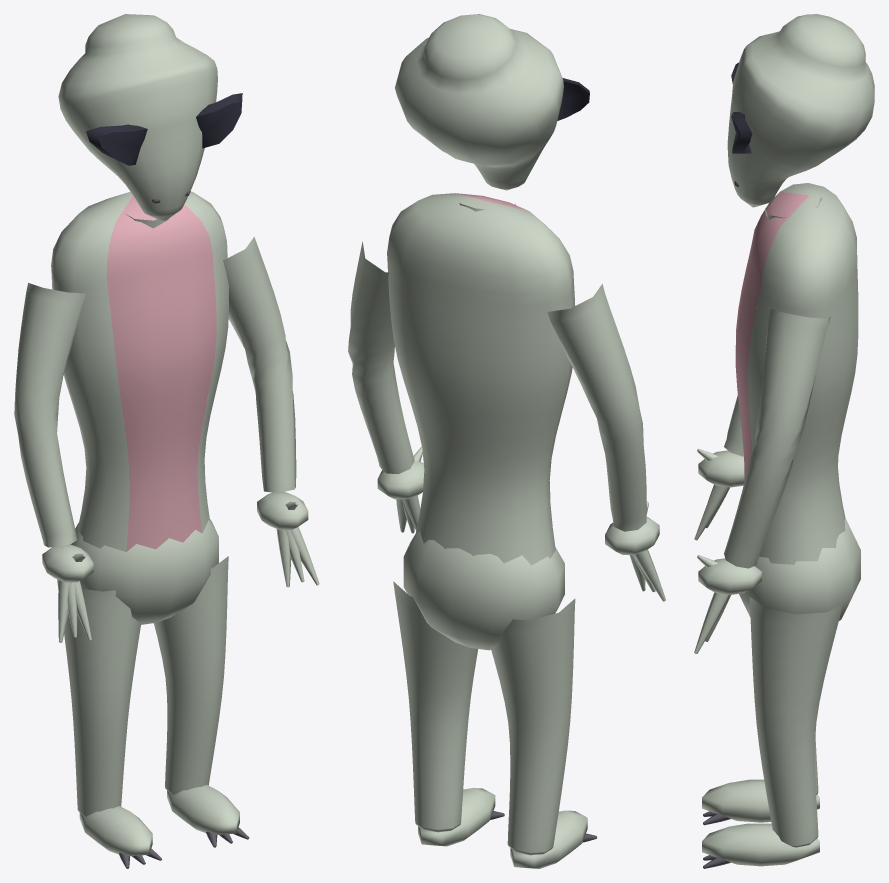
File: SlenderGreyXeno_Mutant.glb
3 renders of one model, left to right at view 1: azimuth 30°, elevation 25°; view 2: azimuth 150°, elevation 25°; view 3: azimuth 270°, elevation 25°, orthographic. The views are drawn at different scales.
Visible parts, largest first — view 1: slender-grey-xeno; view 2: slender-grey-xeno; view 3: slender-grey-xeno.
Boxes of the visible parts, left/top/right/bottom form: slender-grey-xeno: left=14, top=14, right=319, bottom=868; slender-grey-xeno: left=348, top=14, right=665, bottom=868; slender-grey-xeno: left=694, top=14, right=874, bottom=868.
Bounding box in the file's own units: 0.4844 × 1.37 × 0.2725.
